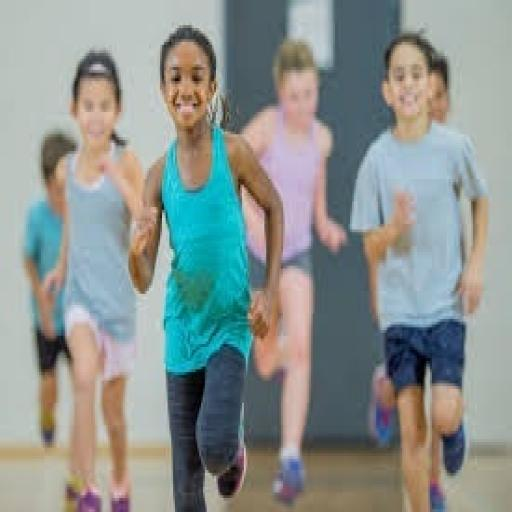running: (126, 22, 286, 510), (348, 28, 492, 509), (236, 36, 350, 510), (41, 48, 154, 509)
